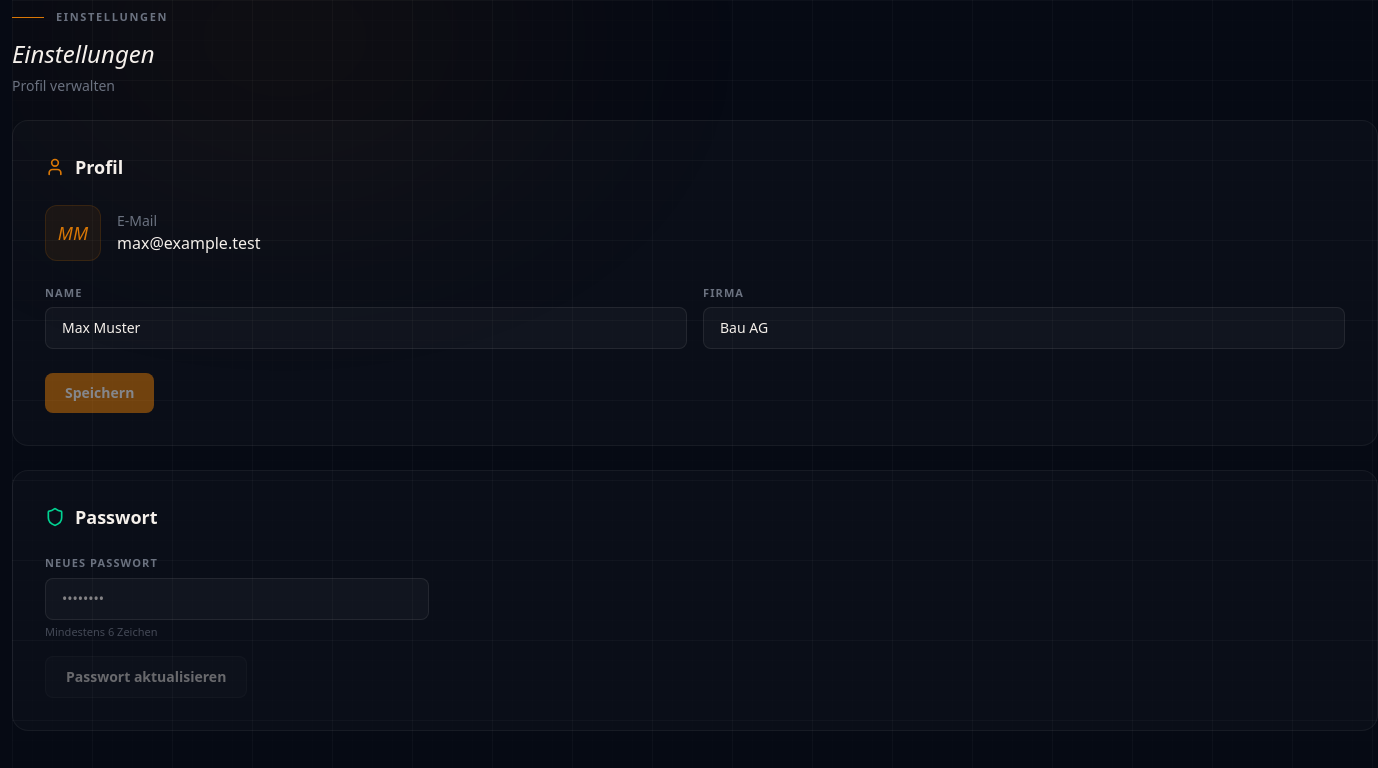
Scenario: settings profile save races › does not overwrite newer profile edits when an older save resolves
Replace the text in the field showing "Max Muster" with "Max Pending" at coordinates (366, 328), box top-left (45, 307), bottom-right (687, 349)
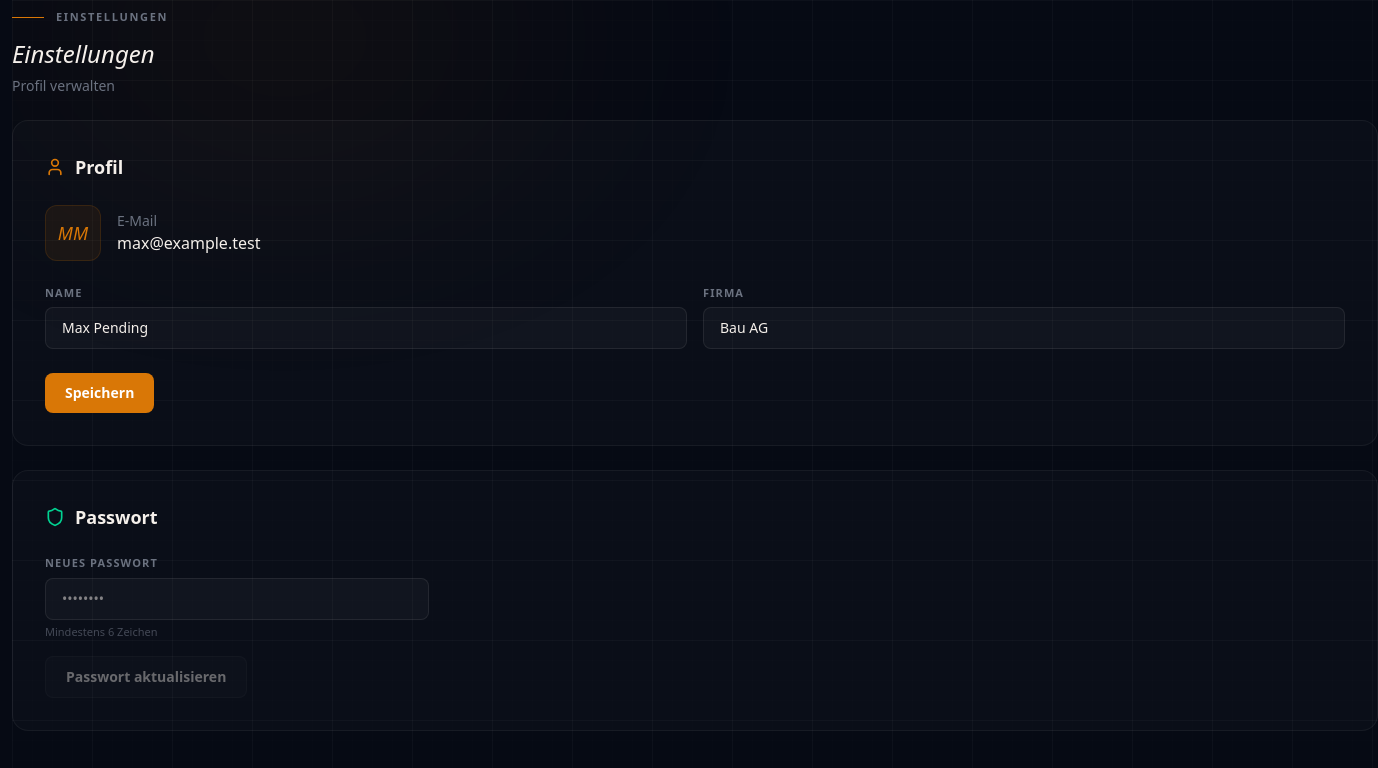
Click the button "Speichern" at coordinates (100, 393), box top-left (45, 373), bottom-right (154, 413)
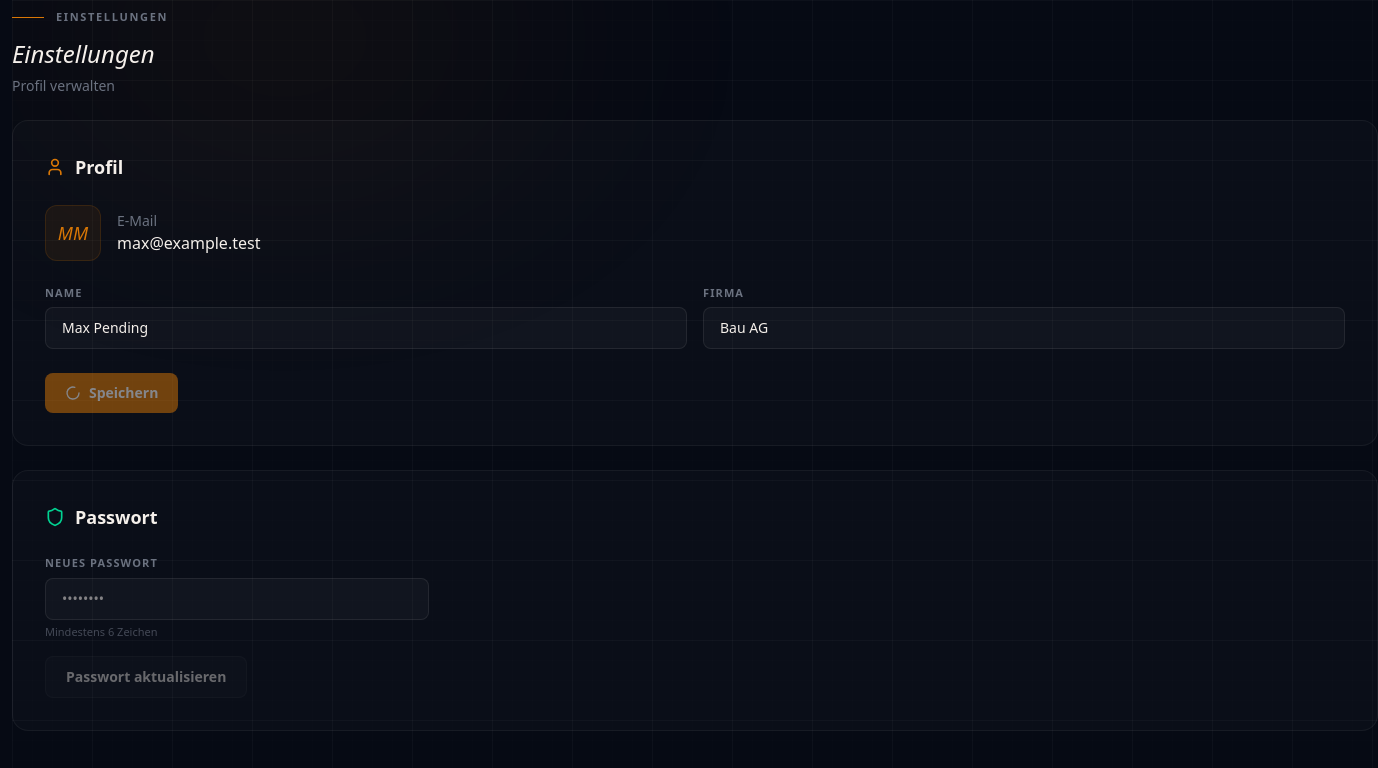
Replace the text in the field showing "Max Muster" with "Max Newer" at coordinates (366, 328), box top-left (45, 307), bottom-right (687, 349)
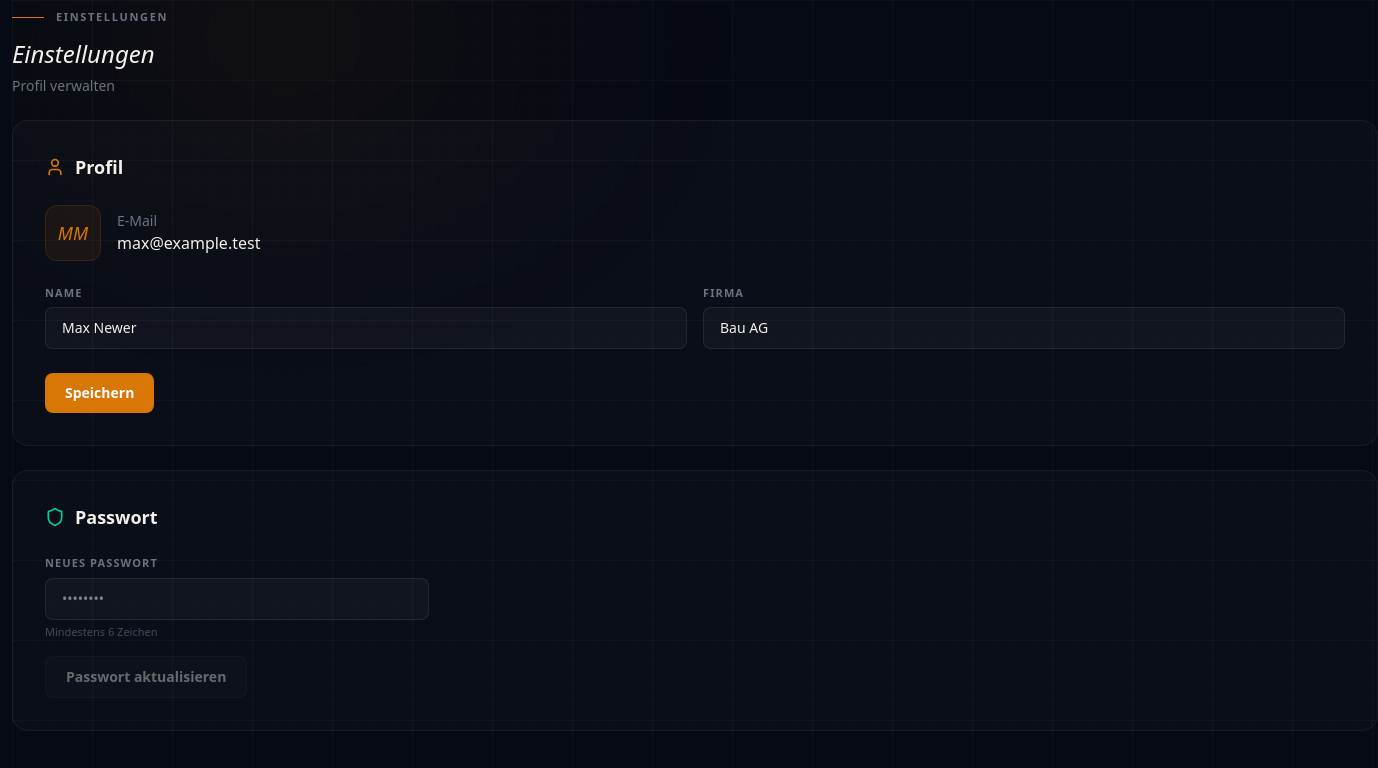
Expected: the button "Speichern" is enabled, top-left (45, 373), bottom-right (154, 413)
